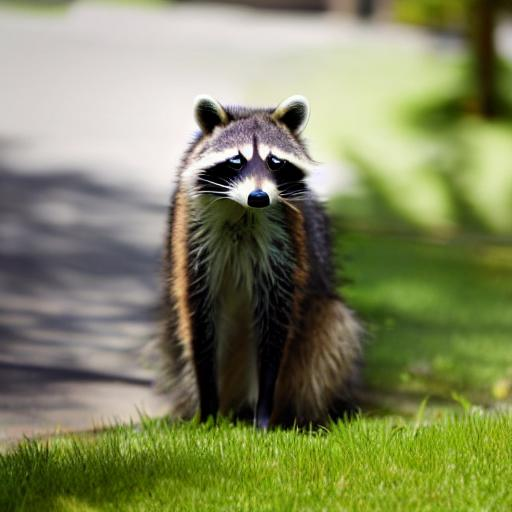raccoon: (156, 86, 364, 408)
